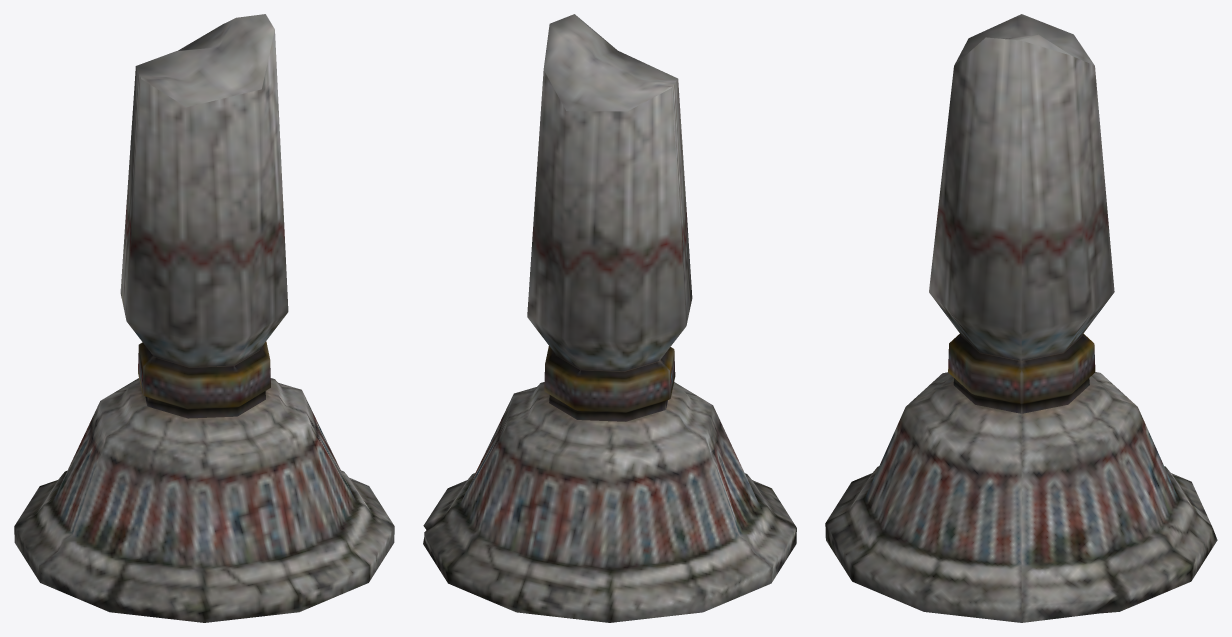
File: SM_EN_2005_shizhuzi03.FBX
3 views of the same model, side by side, from view 1: azimuth 30°, elevation 25°; view 2: azimuth 150°, elevation 25°; view 3: azimuth 270°, elevation 25° (orthographic). The views are drawn at different scales.
Parts seen in each view (by area): view 1: SM_EN_2005_shizhuzi03; view 2: SM_EN_2005_shizhuzi03; view 3: SM_EN_2005_shizhuzi03.
Boxes of the visible parts, x1,y1,x2,y2 form: SM_EN_2005_shizhuzi03: [14, 14, 394, 622]; SM_EN_2005_shizhuzi03: [423, 14, 796, 622]; SM_EN_2005_shizhuzi03: [825, 14, 1217, 622].
Bounding box in the file's own units: 101 × 151 × 101.
